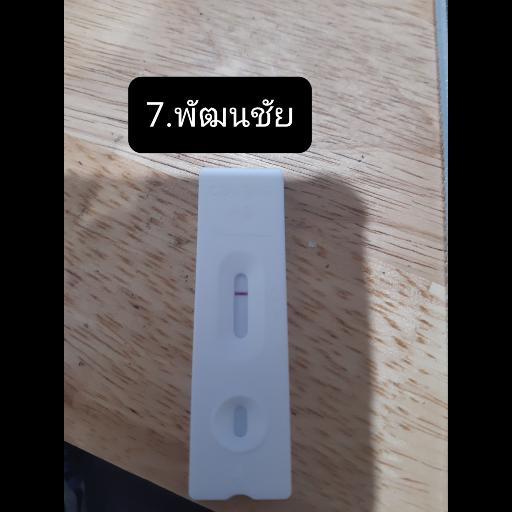Neg: (194, 168, 290, 502)
